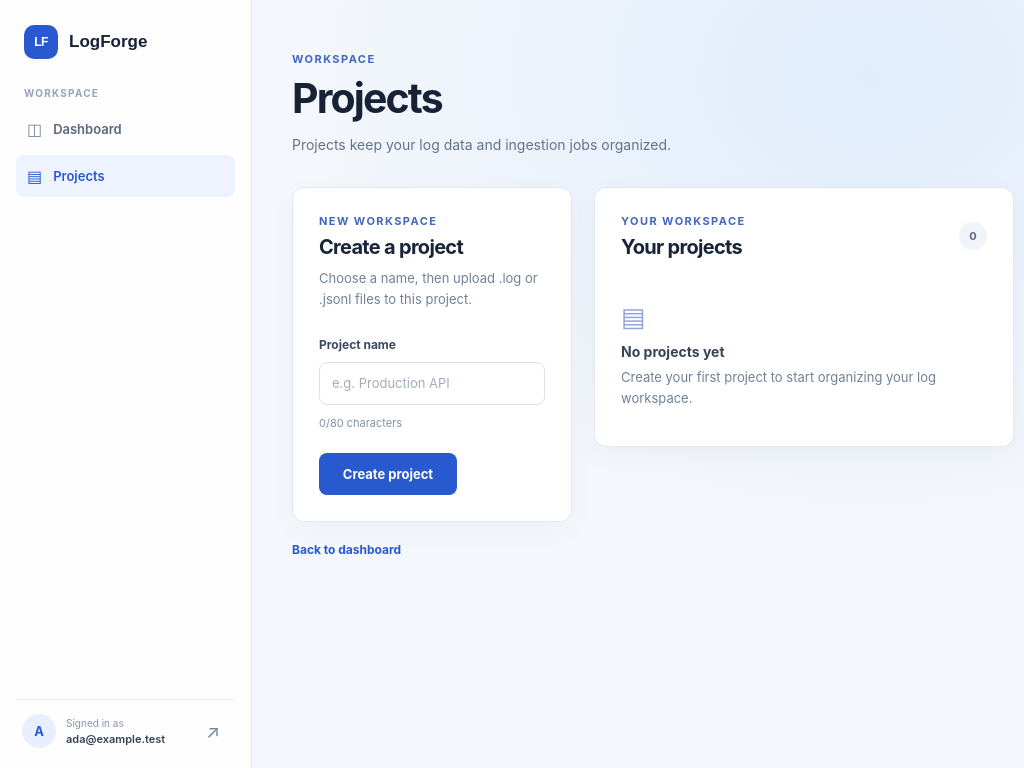
projects page › shows server-side duplicate-name conflicts next to the name field
Expected: the heading "No projects yet" is shown, [621,343,724,360]
Type "Existing" into the field labelled "Project name" at (432, 383), box [319,362,545,405]
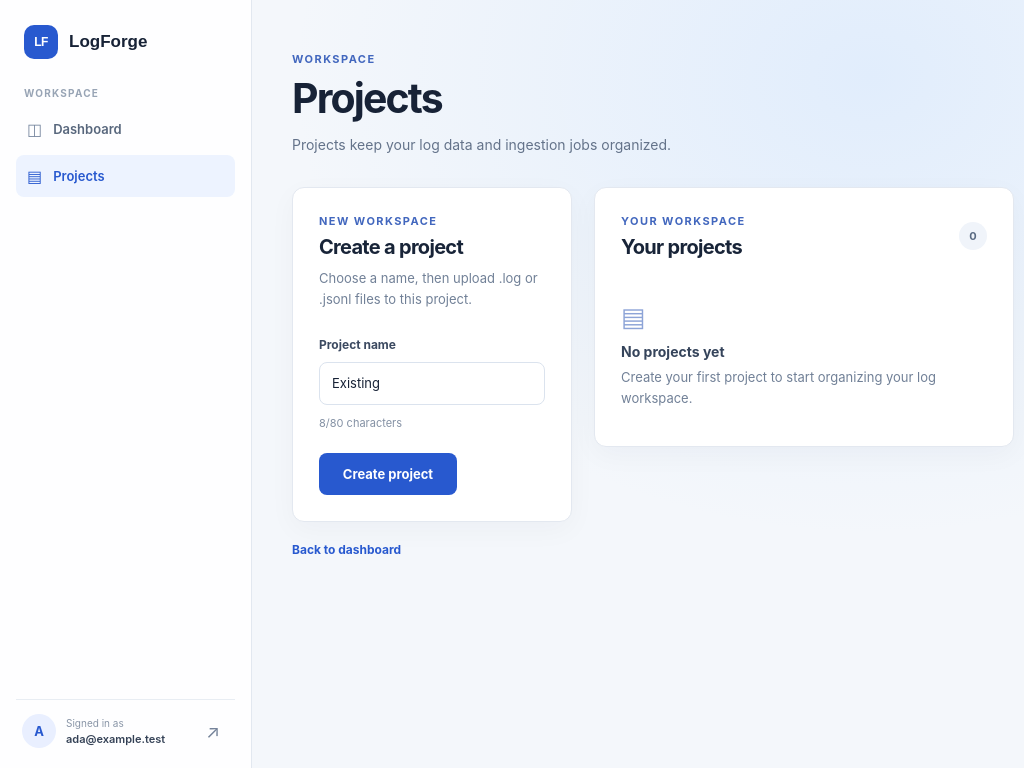
Click the button "Create project" at (388, 474), box [319,453,457,495]
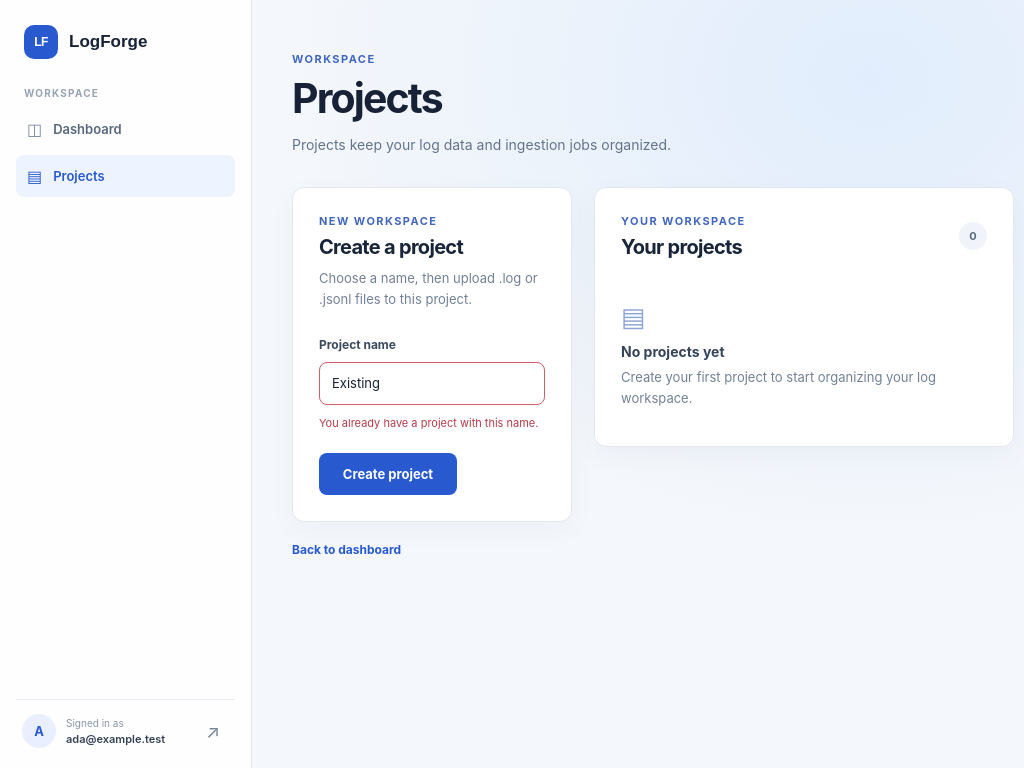
Expected: the text "You already have a project with this name." is shown, [319,415,545,431]
